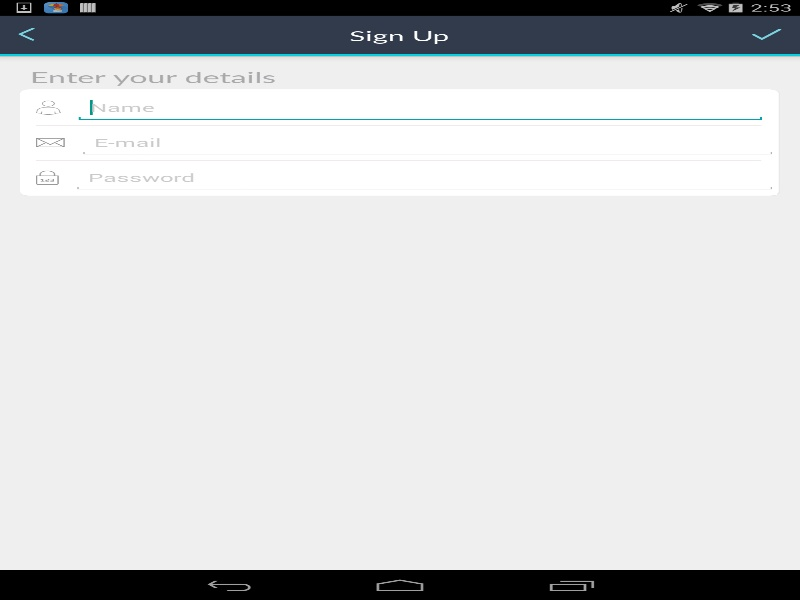Button: (736, 15, 800, 52), (0, 15, 48, 52)
Input: (72, 163, 777, 191), (78, 128, 777, 156), (74, 93, 766, 121)
